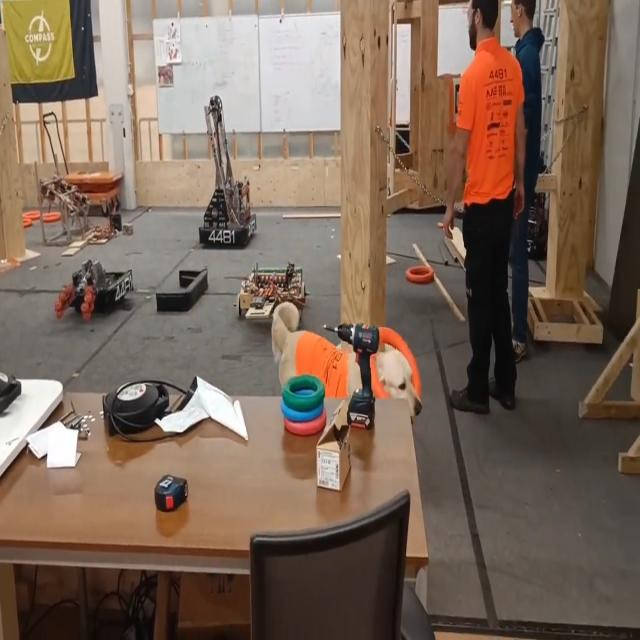note: (368, 325, 420, 420), (406, 260, 436, 287), (42, 210, 61, 223), (23, 209, 42, 220)
robot: (199, 94, 257, 248), (54, 256, 135, 323)
